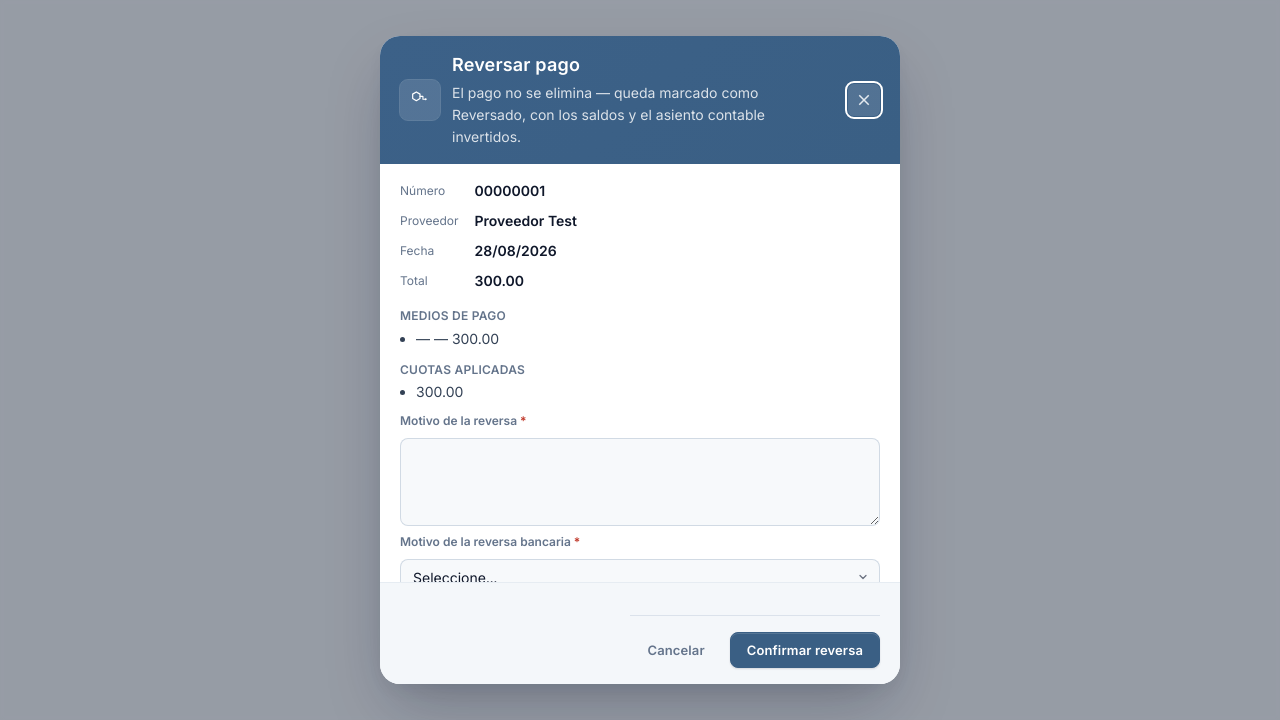
Scenario: SupplierPaymentReverseModal › bloquea el submit si el motivo está vacío o solo espacios
Click the button "Confirmar reversa" at (805, 650), box left=730, top=632, right=880, bottom=668
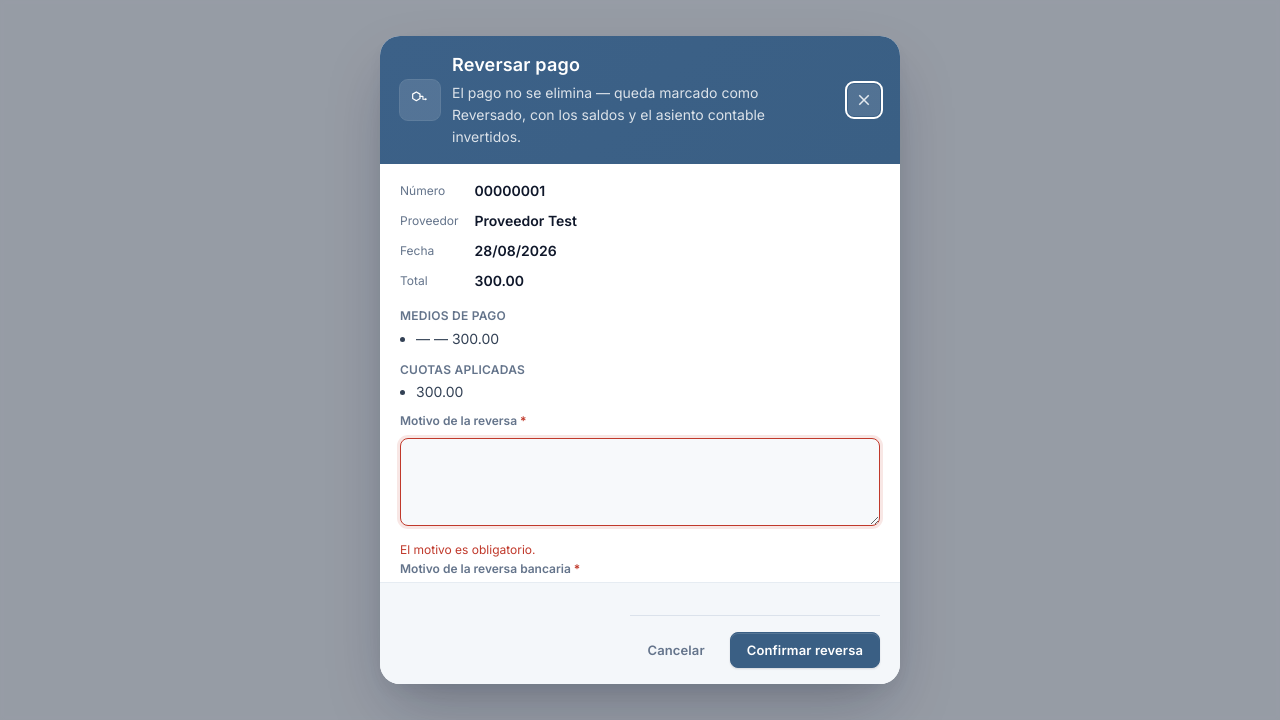
Check: the text "El motivo es obligatorio." is shown, box left=400, top=542, right=536, bottom=557
